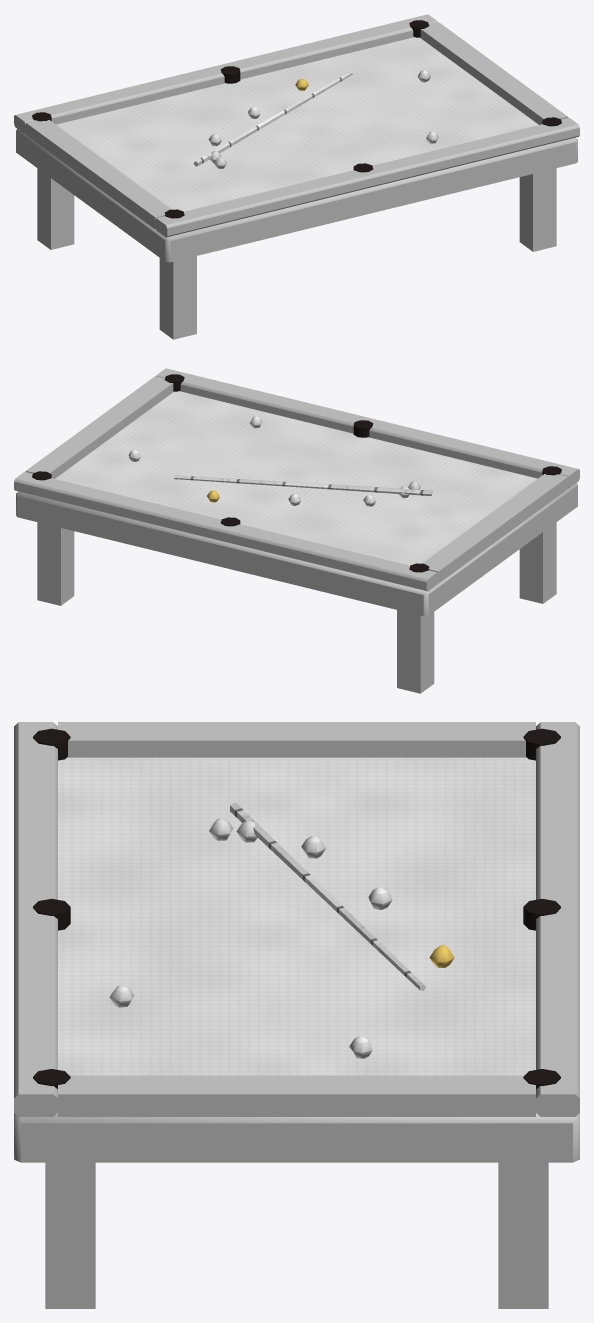
The model's file is billiards_table.obj.
3 renders of one model, top to bottom at view 1: azimuth 30°, elevation 25°; view 2: azimuth 150°, elevation 25°; view 3: azimuth 270°, elevation 25°, orthographic. The views are drawn at different scales.
Parts seen in each view (by area): view 1: retained_25, table_body, north_cushion_rail, south_cushion_rail, retained_40, retained_45, retained_0, retained_10, retained_5, retained_356; view 2: retained_25, table_body, south_cushion_rail, north_cushion_rail, retained_40, retained_45, retained_5, retained_15, retained_0, retained_356; view 3: retained_25, table_body, retained_45, retained_40, north_cushion_rail, south_cushion_rail, retained_10, retained_15, retained_356.
Part boxes in pixels (left/top/right/bottom): retained_25: left=56, top=37, right=538, bottom=211; table_body: left=16, top=129, right=577, bottom=262; north_cushion_rail: left=155, top=117, right=579, bottom=237; south_cushion_rail: left=14, top=14, right=437, bottom=133; retained_40: left=25, top=120, right=171, bottom=229; retained_45: left=420, top=22, right=568, bottom=124; retained_0: left=159, top=256, right=196, bottom=339; retained_10: left=519, top=168, right=556, bottom=251; retained_5: left=37, top=168, right=74, bottom=249; retained_356: left=193, top=71, right=352, bottom=166; retained_25: left=55, top=391, right=537, bottom=565; table_body: left=16, top=483, right=577, bottom=616; south_cushion_rail: left=14, top=471, right=438, bottom=591; north_cushion_rail: left=156, top=368, right=579, bottom=487; retained_40: left=422, top=474, right=568, bottom=583; retained_45: left=25, top=376, right=173, bottom=478; retained_5: left=397, top=610, right=434, bottom=693; retained_15: left=37, top=522, right=74, bottom=605; retained_0: left=519, top=522, right=556, bottom=603; retained_356: left=174, top=475, right=432, bottom=495; retained_25: left=58, top=757, right=535, bottom=1075; table_body: left=14, top=1113, right=579, bottom=1162; retained_45: left=58, top=1075, right=535, bottom=1116; retained_40: left=58, top=722, right=535, bottom=757; north_cushion_rail: left=14, top=722, right=57, bottom=1116; south_cushion_rail: left=536, top=722, right=579, bottom=1116; retained_10: left=45, top=1162, right=95, bottom=1308; retained_15: left=498, top=1162, right=548, bottom=1308; retained_356: left=230, top=802, right=425, bottom=990.
Size of the model in its own units: 2.8 by 0.8114 by 1.8.
